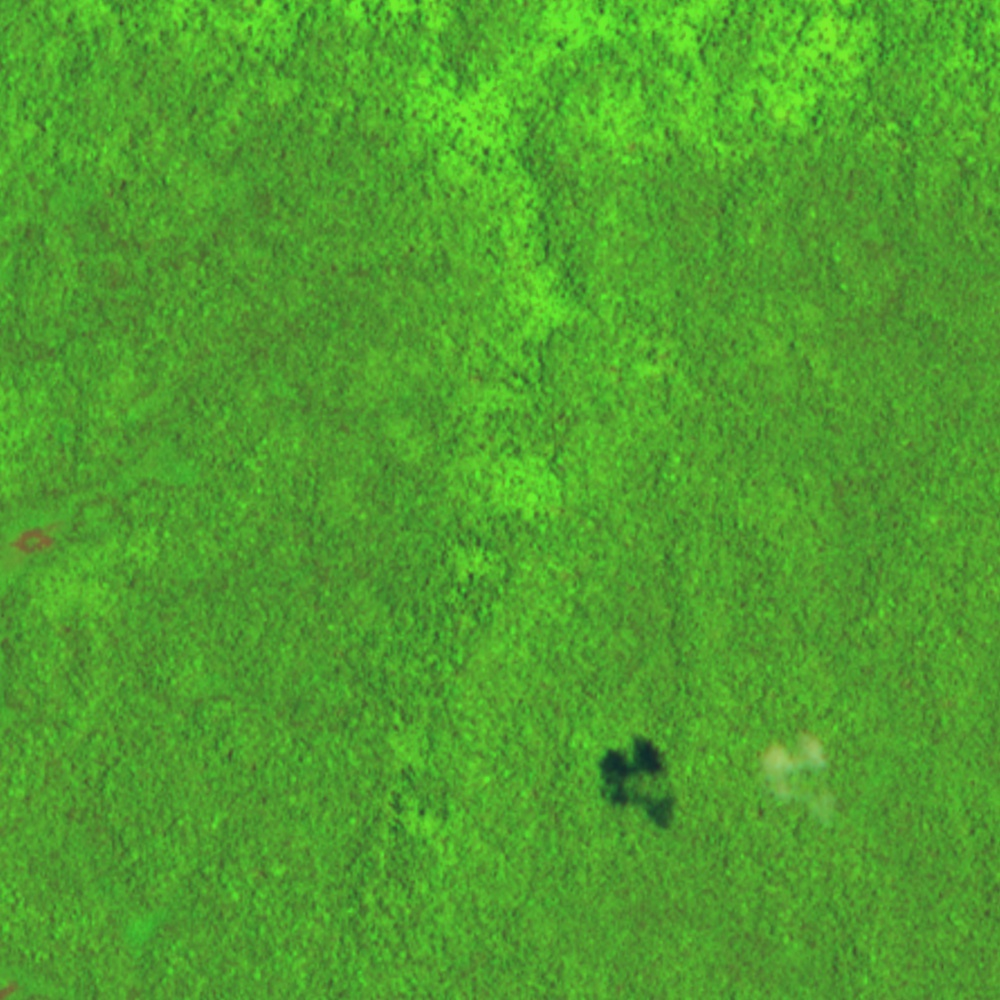legal: (1, 491, 112, 567)
